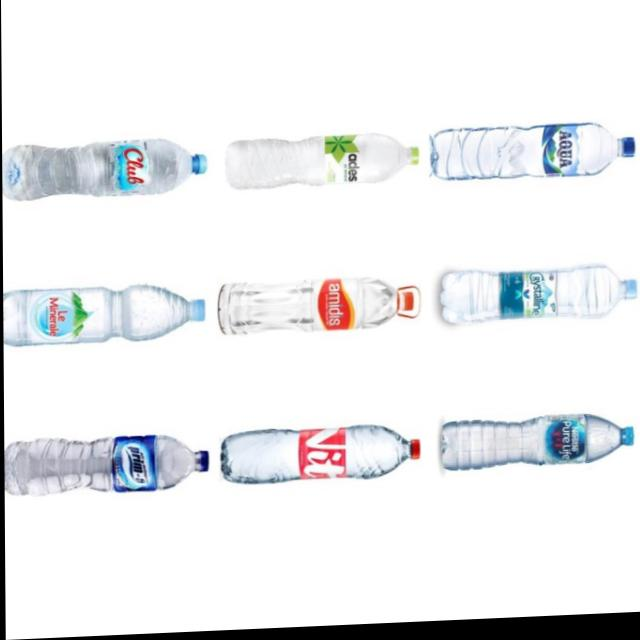bottle: (3, 427, 213, 506), (1, 132, 209, 211), (218, 420, 427, 494), (216, 271, 422, 346), (2, 280, 208, 354), (437, 409, 633, 482), (436, 265, 639, 334), (222, 130, 421, 199), (427, 122, 635, 187)
